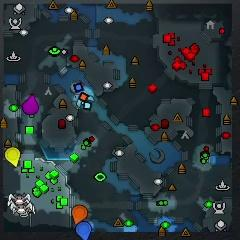p1: (75, 220, 93, 240)
p3: (22, 93, 40, 116)
p4: (5, 147, 21, 167)
p5: (71, 204, 88, 226)
